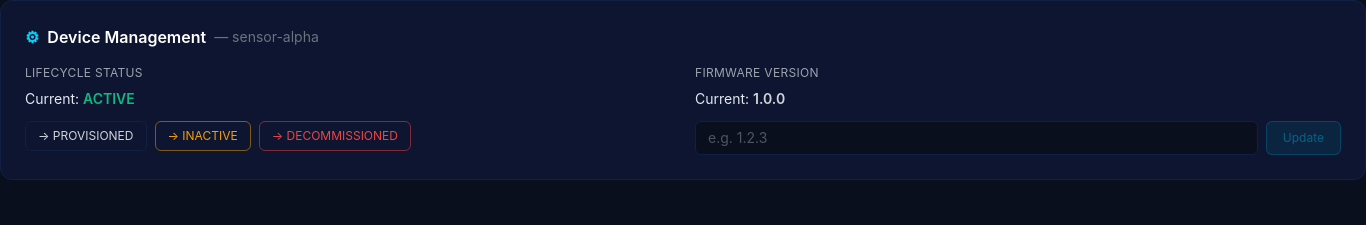
Test: lifecycle failure shows error message
Step 1. Click the button "→ INACTIVE" → (203, 136), box [154,121,251,151]
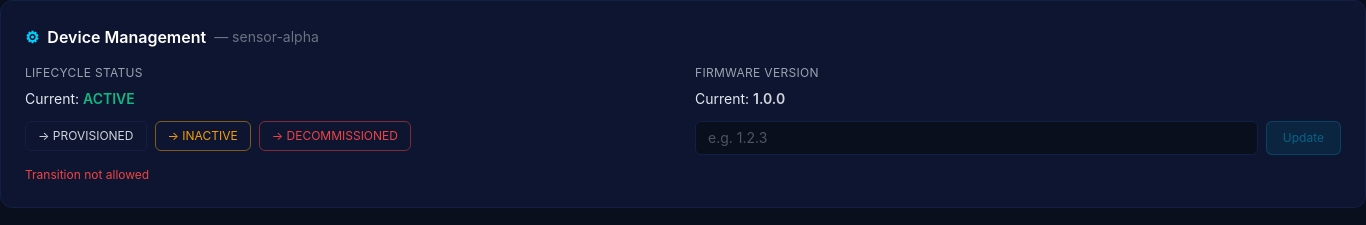
Now the text "Transition not allowed" is shown, box [25,167,149,182]
